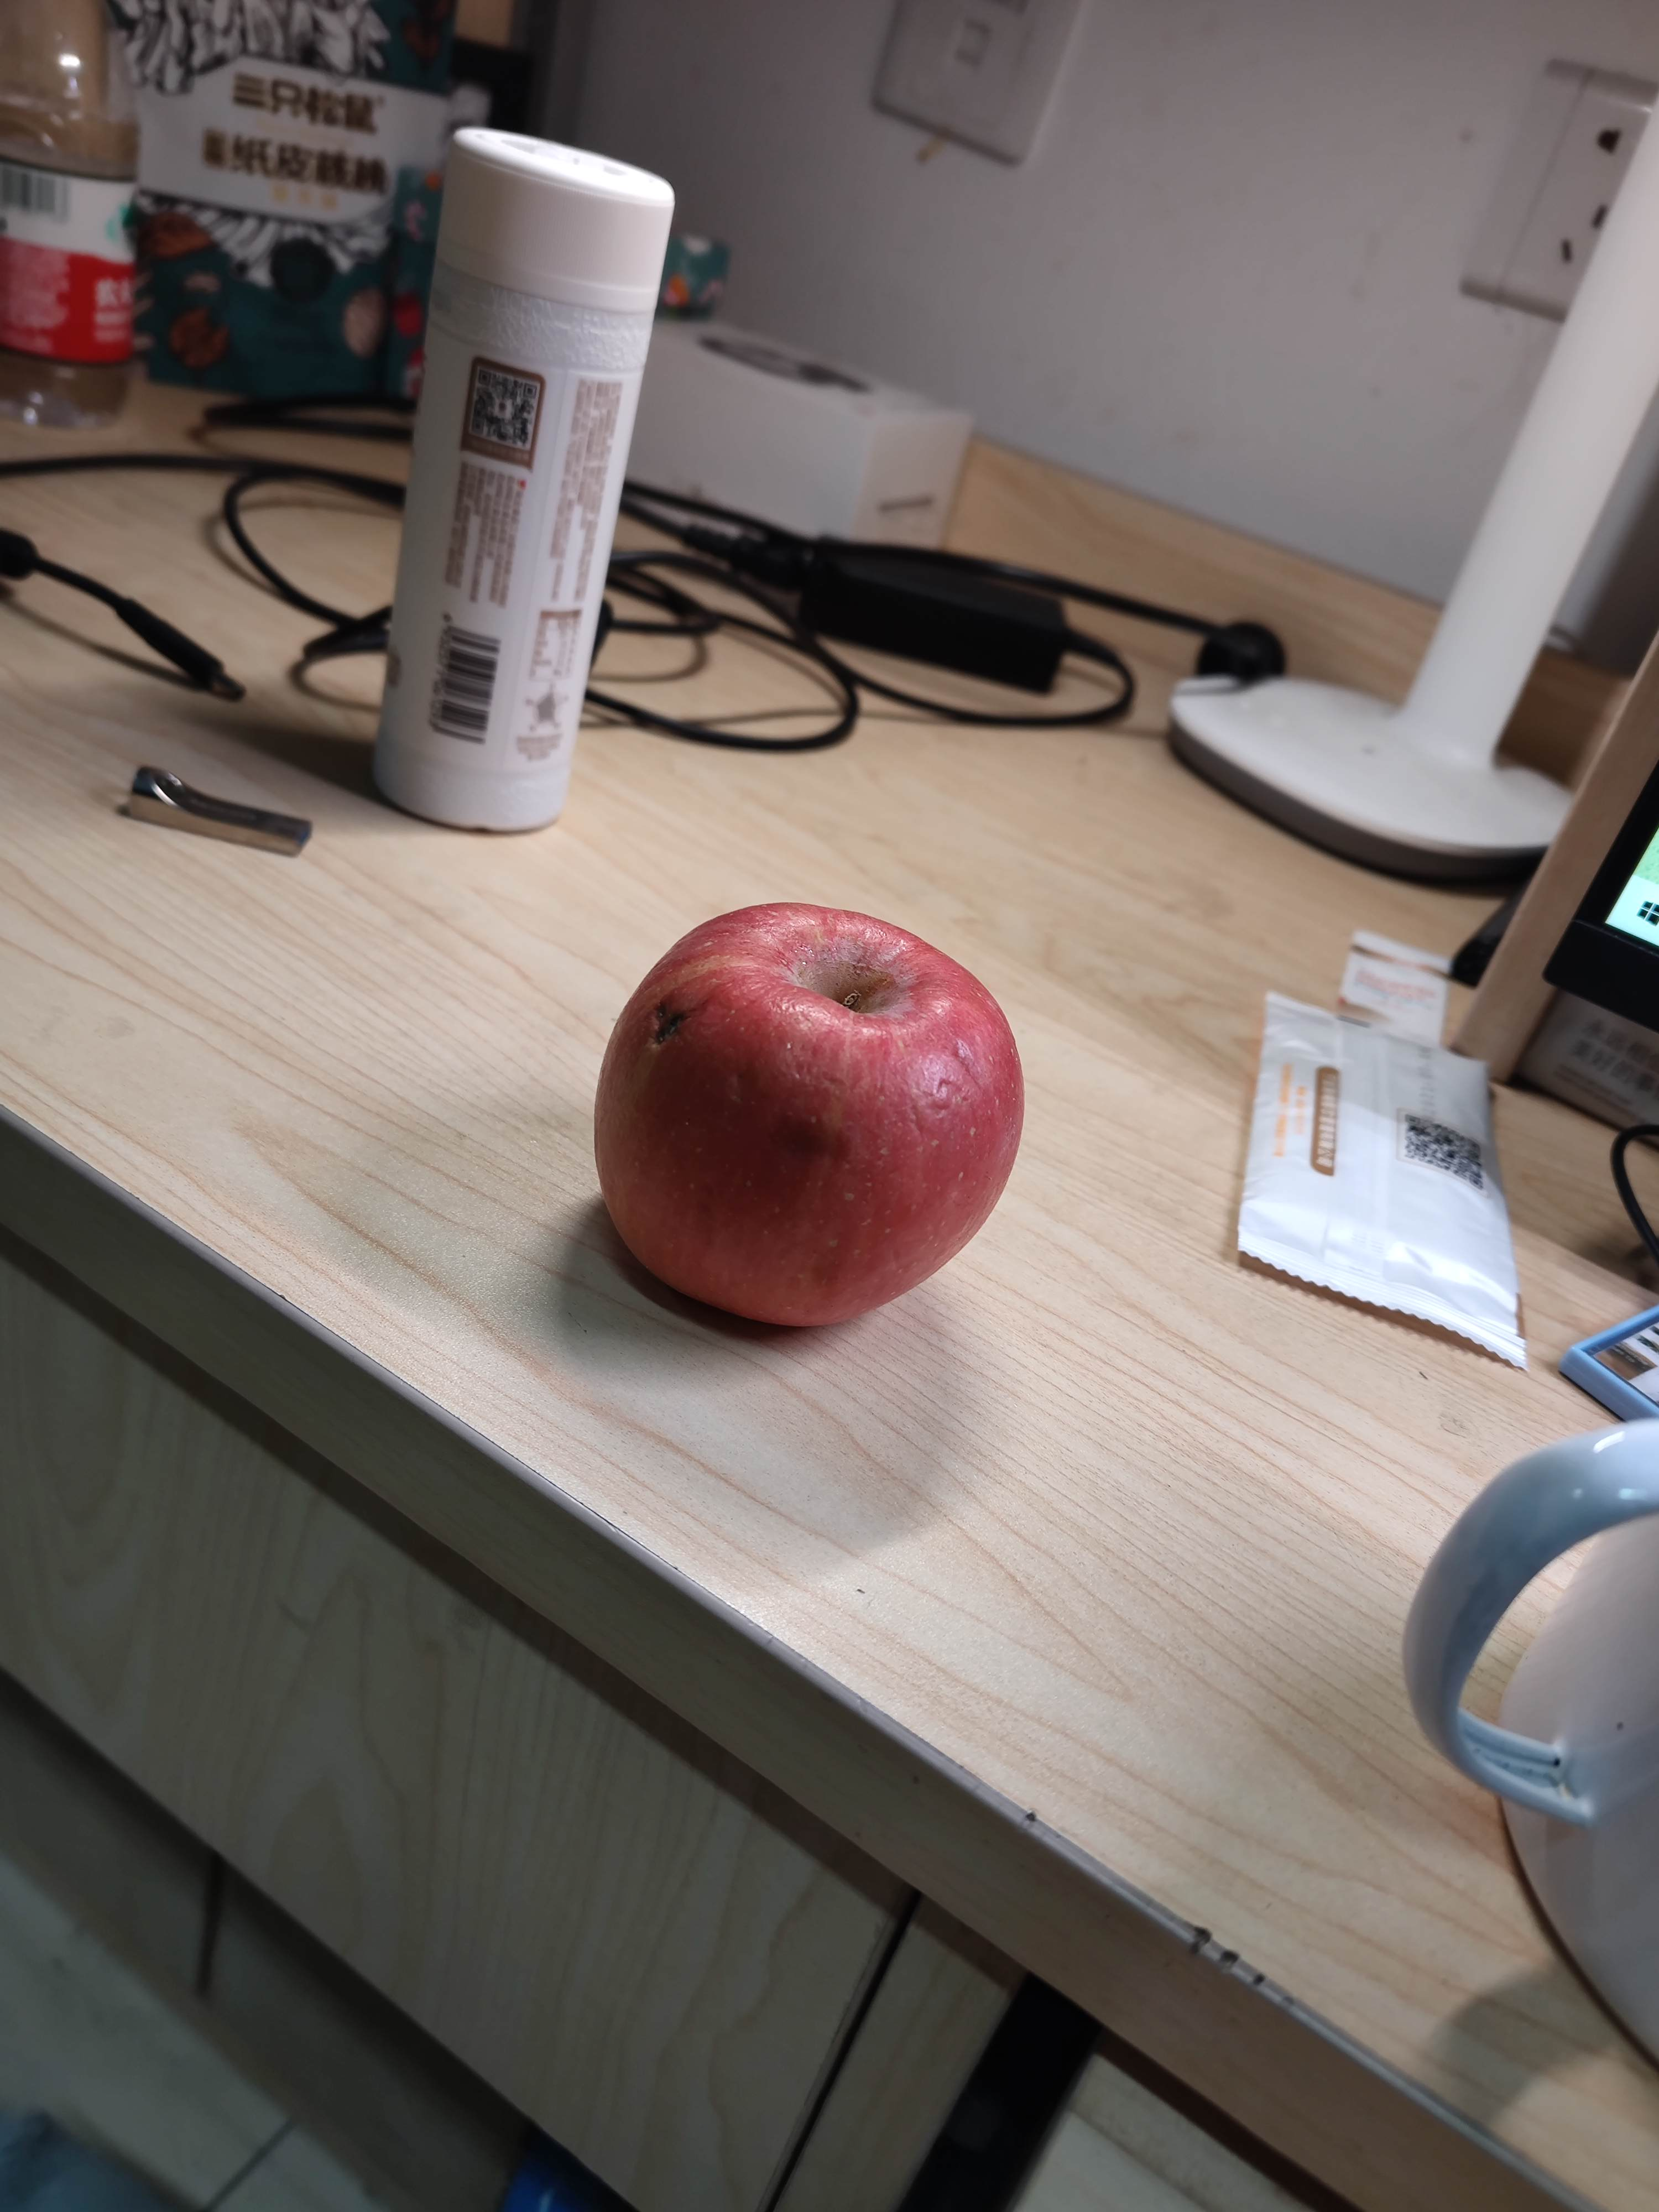apple: (589, 897, 1035, 1352)
